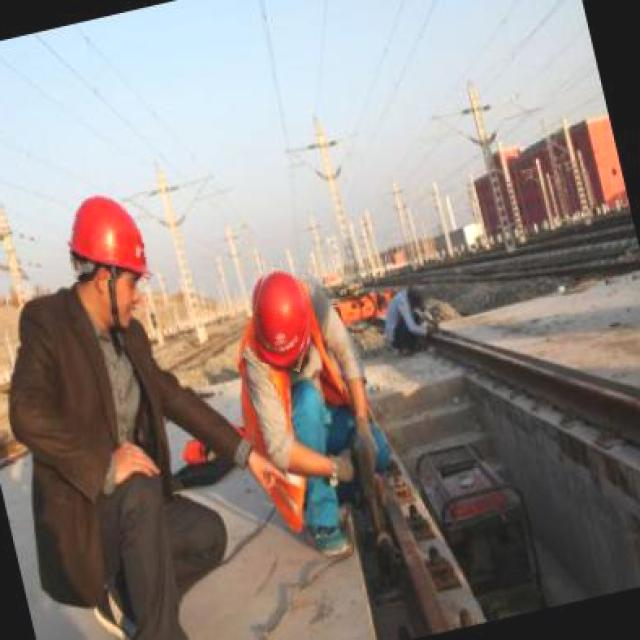helmet: (69, 192, 152, 281), (248, 268, 317, 370)
